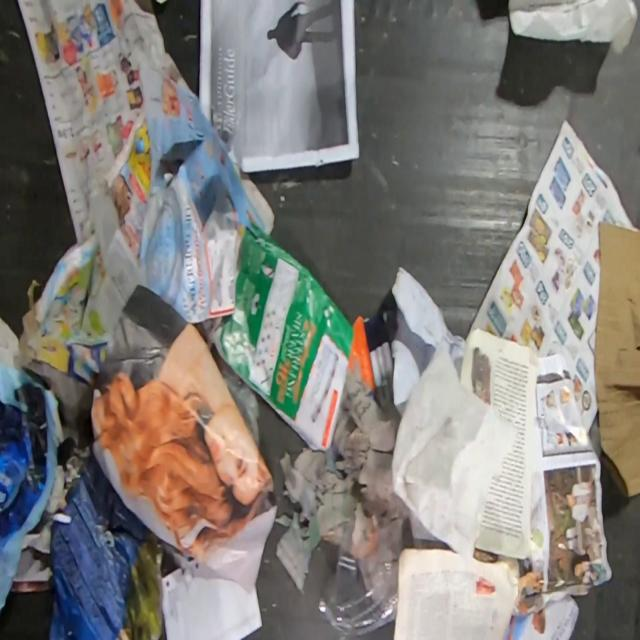cardboard: (210, 223, 353, 449), (48, 446, 194, 640), (594, 221, 640, 500), (342, 304, 399, 411), (22, 305, 39, 359)
rigid_plastic: (314, 506, 398, 639)
